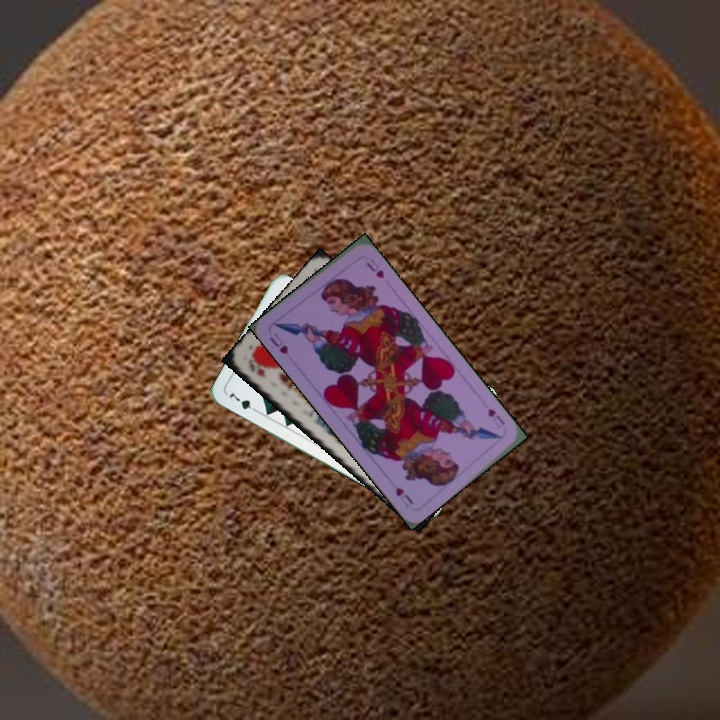G7: (225, 389, 261, 416)
HK: (244, 355, 269, 380)
HU: (265, 329, 291, 357), (484, 405, 508, 432)
